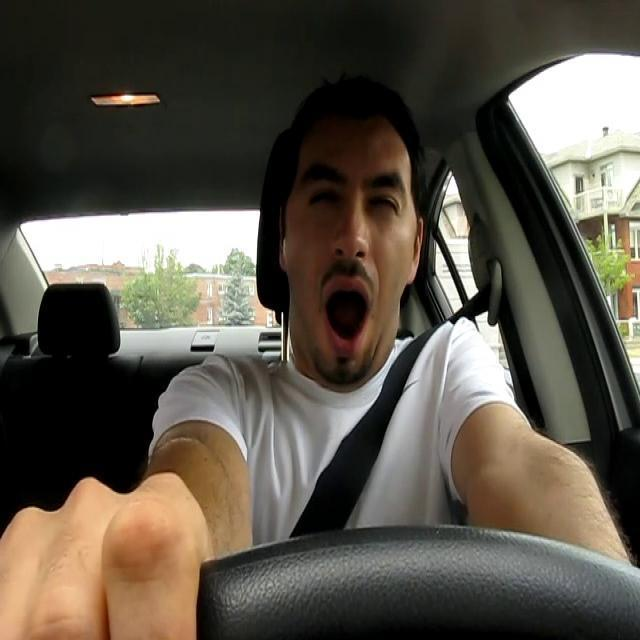open-mouth: (318, 270, 374, 362)
